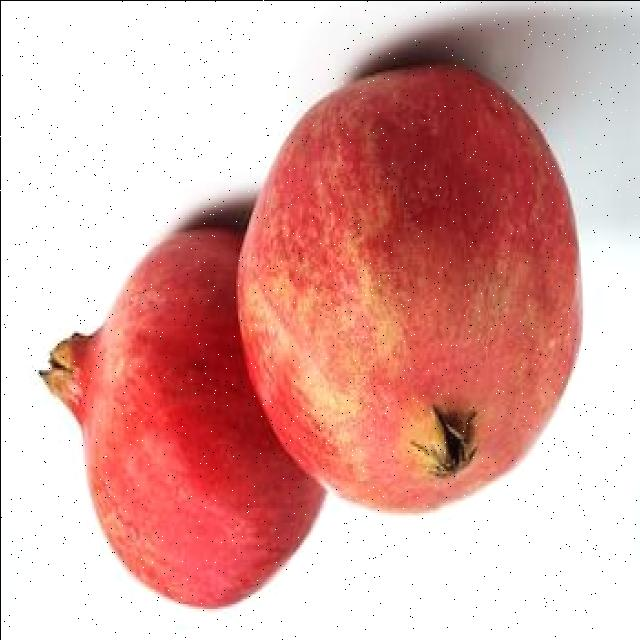Pomegranate: (236, 55, 585, 519), (38, 224, 236, 612)
